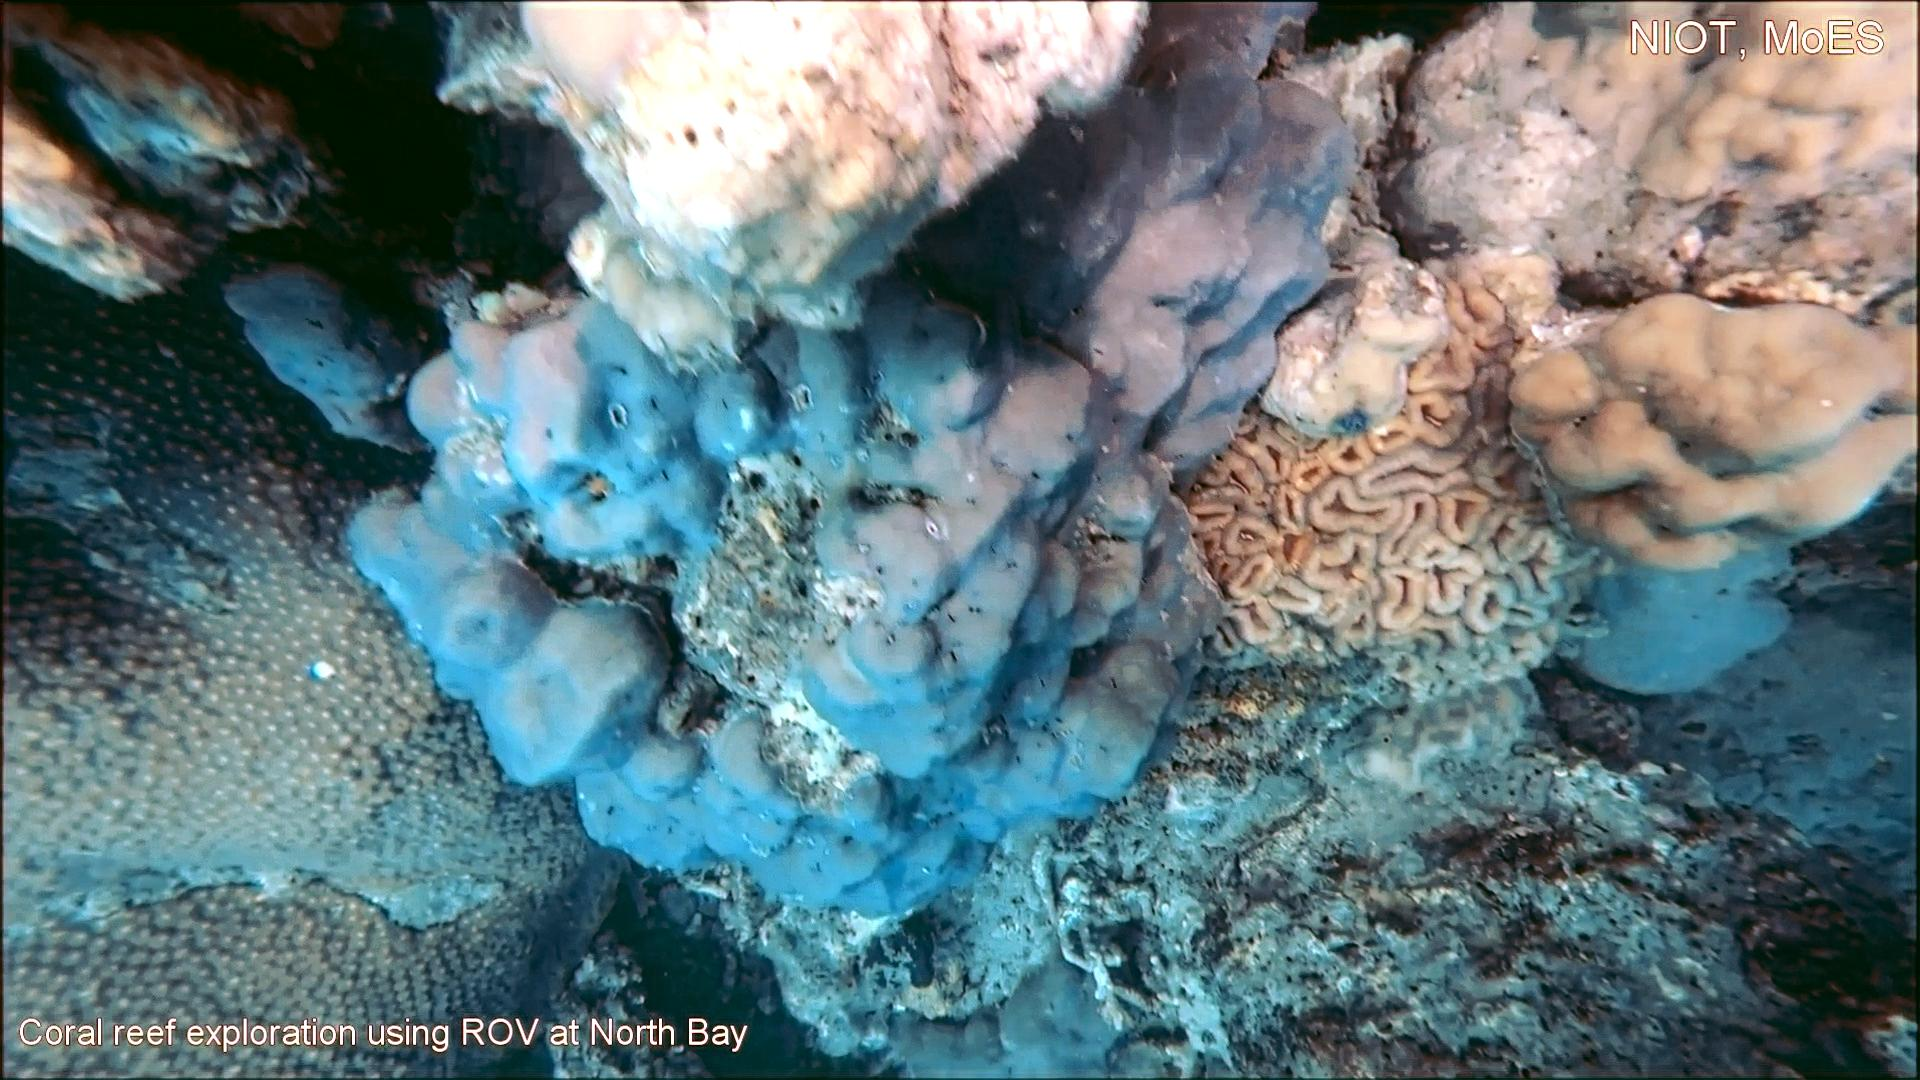Lobophyllia: (1176, 273, 1604, 711)
